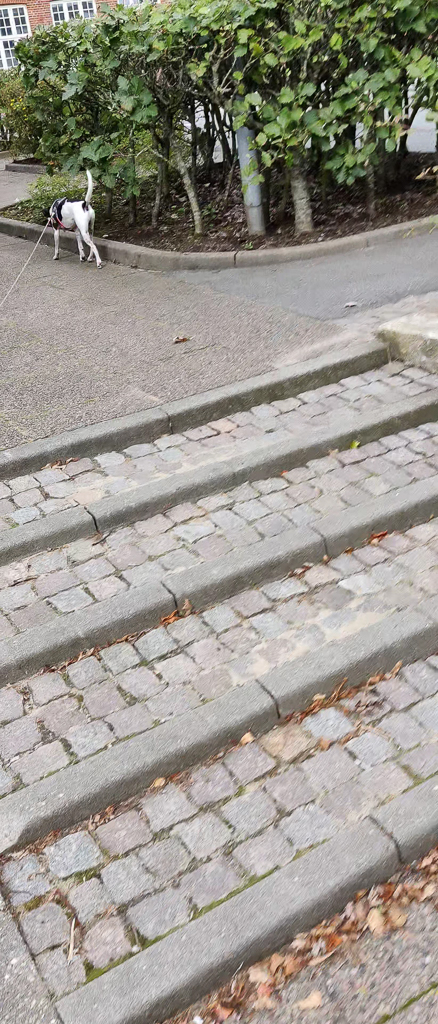Dog: (35, 166, 118, 273)
